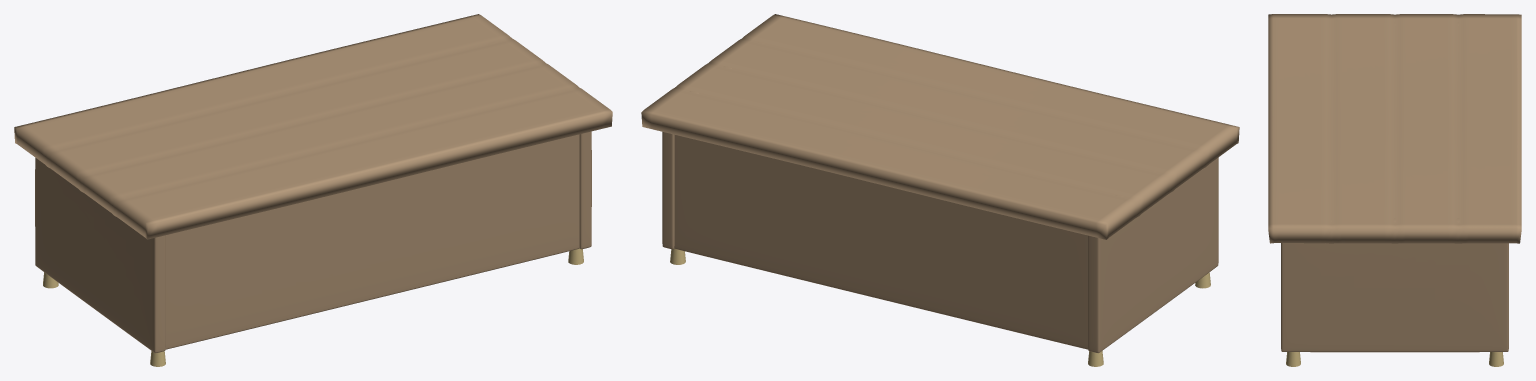
File: coffeeTable.glb
3 renders of one model, left to right at view 1: azimuth 30°, elevation 25°; view 2: azimuth 150°, elevation 25°; view 3: azimuth 270°, elevation 25°, orthographic. The views are drawn at different scales.
Parts seen in each view (by area): view 1: coffeetop, coffeeend_-1, coffeeside_-1, coffeeside_1; view 2: coffeetop, coffeeend_1, coffeeside_-1, coffeeside_1; view 3: coffeetop, coffeeside_1.
Part boxes in pixels (x1=…): coffeetop: x1=14, y1=14, x2=612, y2=239; coffeeend_-1: x1=165, y1=134, x2=579, y2=349; coffeeside_-1: x1=35, y1=146, x2=165, y2=353; coffeeside_1: x1=488, y1=41, x2=591, y2=249; coffeetop: x1=641, y1=14, x2=1239, y2=239; coffeeend_1: x1=674, y1=135, x2=1087, y2=349; coffeeside_-1: x1=1088, y1=157, x2=1218, y2=353; coffeeside_1: x1=662, y1=42, x2=763, y2=249; coffeetop: x1=1268, y1=14, x2=1521, y2=243; coffeeside_1: x1=1281, y1=218, x2=1508, y2=352.
Bounding box in the file's own units: 1.2 × 0.3816 × 0.6.
